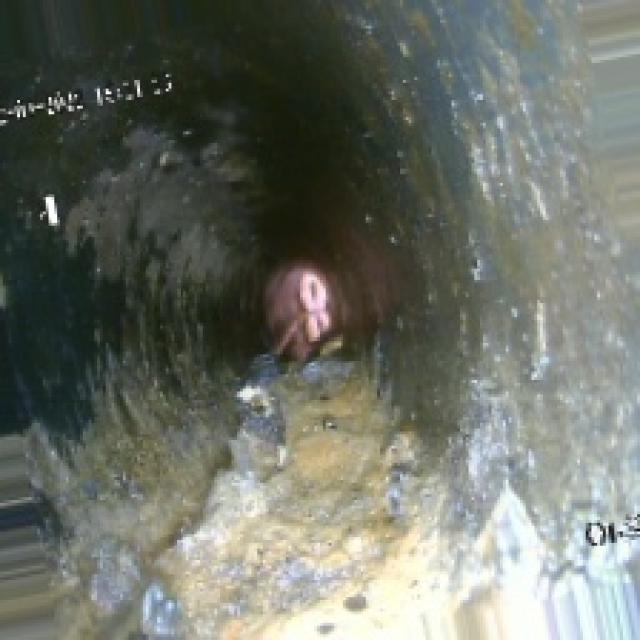sluge accumulation: (195, 374, 474, 623)
